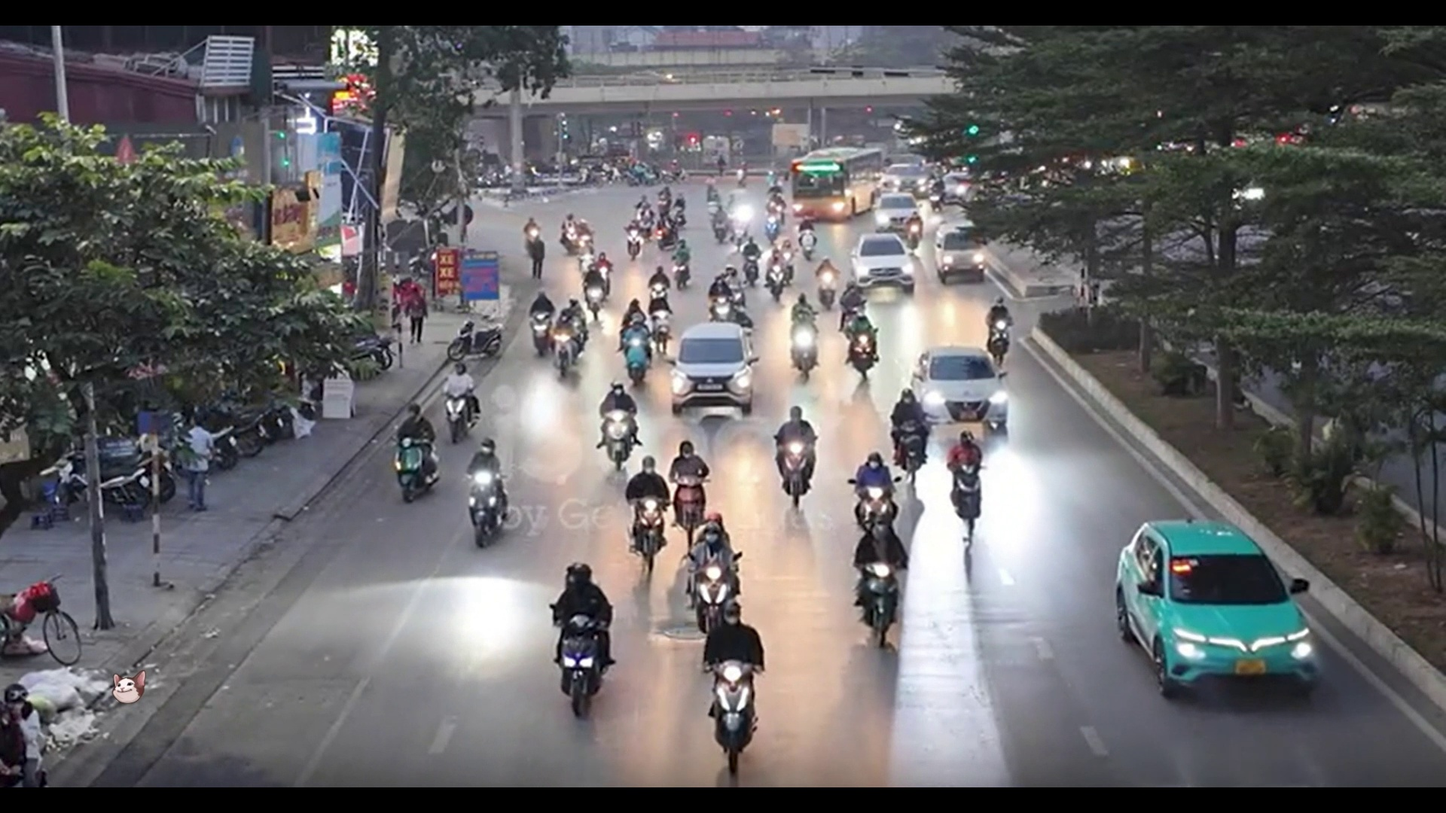bus: (788, 154, 853, 222)
car: (1115, 518, 1319, 691), (912, 348, 1008, 430), (670, 320, 755, 410), (931, 220, 992, 284), (852, 234, 913, 294)
motorcycle: (0, 578, 83, 668), (706, 661, 758, 785), (554, 615, 613, 714), (853, 566, 903, 652), (393, 421, 441, 504), (467, 463, 510, 549), (397, 457, 440, 503)
